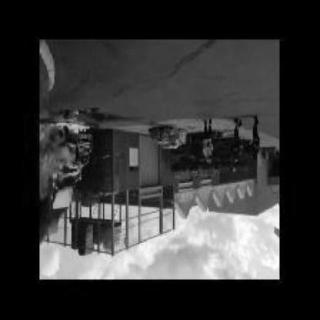Fire: (41, 110, 95, 212)
other: (174, 181, 258, 217)
